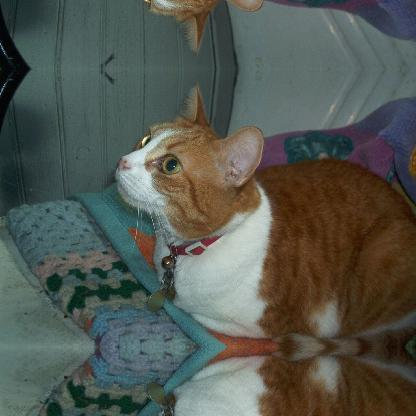Cat: (113, 79, 415, 345), (113, 347, 416, 415), (113, 0, 416, 58)
